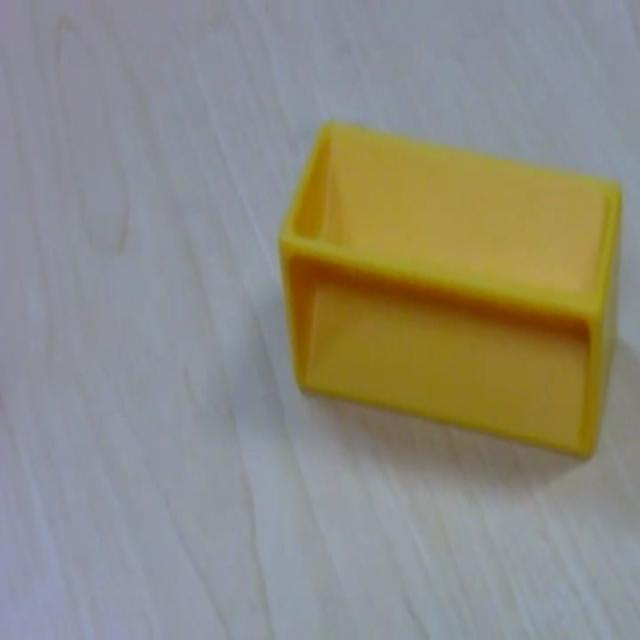yellow_block: (277, 116, 623, 460)
